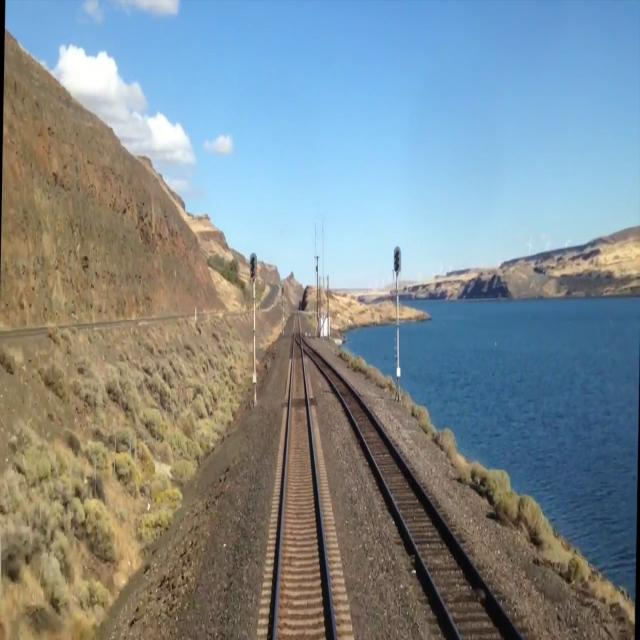rail-track: (303, 343, 519, 639), (277, 343, 332, 639), (296, 317, 299, 341)
